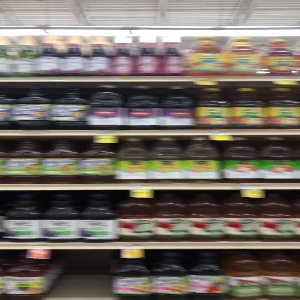void: (51, 244, 114, 300)
